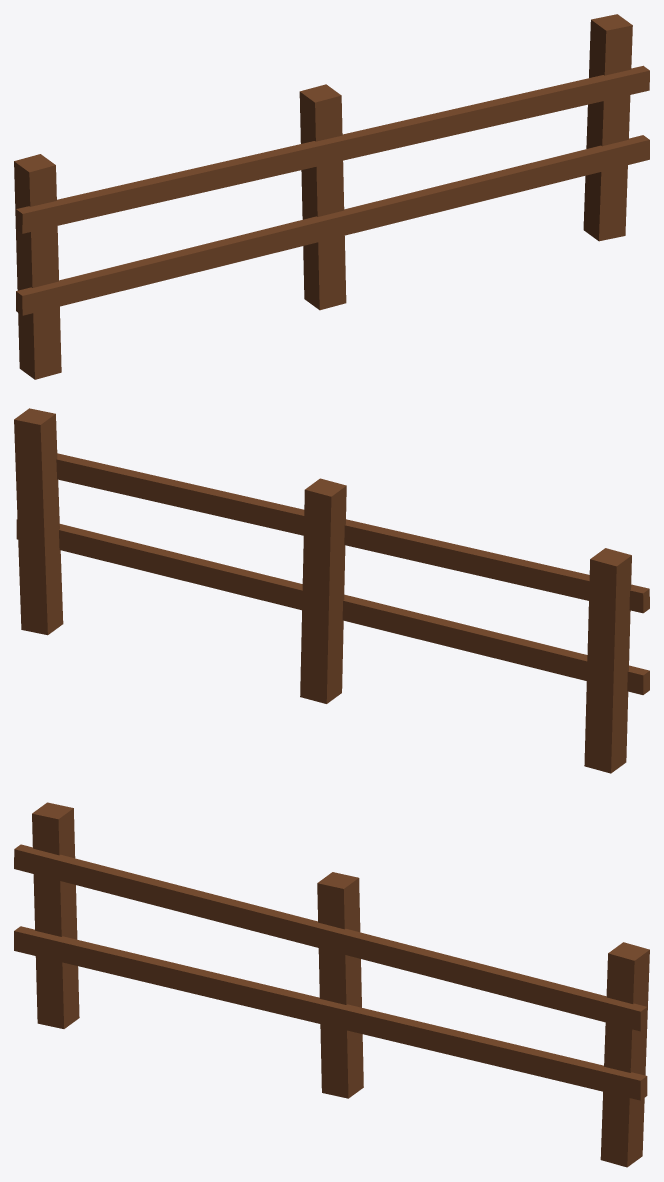
Rendered from valla_3m.glb.
3 renders of one model, top to bottom at view 1: azimuth 30°, elevation 25°; view 2: azimuth 150°, elevation 25°; view 3: azimuth 330°, elevation 25°, orthographic.
Parts seen in each view (by area): view 1: travesano_1, travesano_2, poste_3, poste_1, poste_2; view 2: travesano_1, travesano_2, poste_3, poste_2, poste_1; view 3: travesano_2, travesano_1, poste_1, poste_2, poste_3.
Boxes of the visible parts, x1,y1,x2,y2 form: travesano_1: [16, 135, 649, 315]; travesano_2: [15, 65, 649, 233]; poste_3: [583, 14, 632, 241]; poste_1: [14, 154, 61, 379]; poste_2: [299, 84, 346, 310]; travesano_1: [16, 519, 649, 694]; travesano_2: [56, 453, 649, 613]; poste_3: [14, 408, 63, 635]; poste_2: [300, 478, 346, 703]; poste_1: [584, 548, 631, 773]; travesano_2: [14, 844, 647, 1031]; travesano_1: [14, 926, 647, 1100]; poste_1: [32, 802, 79, 1028]; poste_2: [317, 872, 363, 1098]; poste_3: [600, 942, 649, 1167].
Size of the model in its own units: 3.3 by 1.05 by 0.19.
